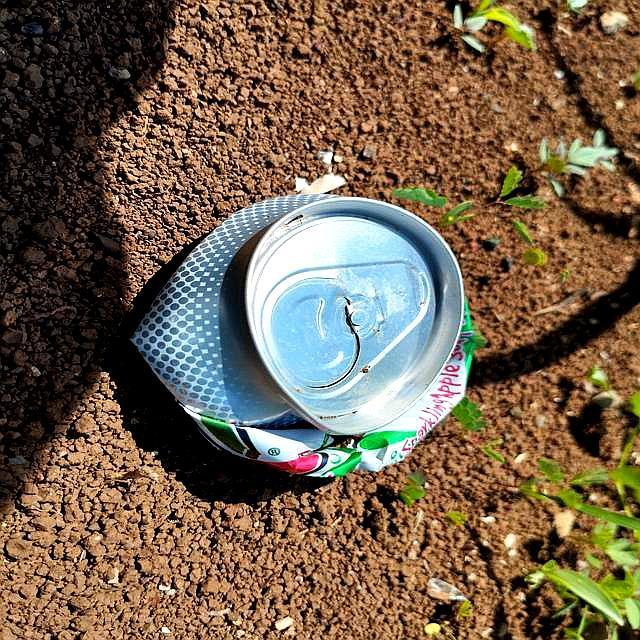Non-biodegradable: (131, 191, 487, 489)
